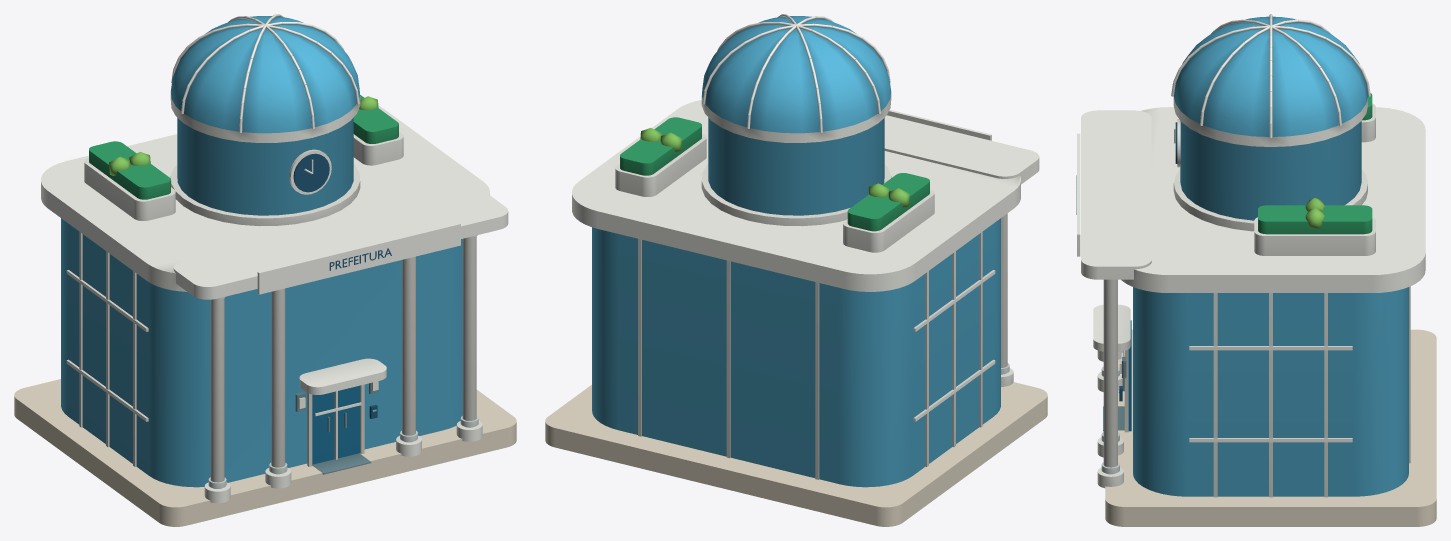
Rendered from civic.glb.
The picture shows the model from 3 angles, left to right: view 1: azimuth 30°, elevation 25°; view 2: azimuth 150°, elevation 25°; view 3: azimuth 270°, elevation 25°; orthographic projection. The views are drawn at different scales.
Visible parts, largest first — view 1: civic glass hall, hall cornice, civic podium, planter foliage, recessed entrance, identity PREFEITURA, door handle, shrub tip, column collar; view 2: civic glass hall, hall cornice, civic podium, planter foliage, shrub tip; view 3: civic glass hall, hall cornice, civic podium, planter foliage, shrub tip.
Part boxes in pixels (x1,y1,x2,y2): civic glass hall: (61, 16, 462, 487); hall cornice: (41, 14, 508, 503); civic podium: (14, 379, 516, 526); planter foliage: (89, 95, 398, 199); recessed entrance: (312, 385, 359, 464); identity PREFEITURA: (293, 153, 391, 418); door handle: (295, 382, 378, 474); shrub tip: (109, 96, 378, 175); column collar: (208, 235, 478, 488); civic glass hall: (592, 16, 1000, 487); hall cornice: (572, 14, 1039, 479); civic podium: (545, 382, 1047, 526); planter foliage: (620, 117, 929, 231); shrub tip: (640, 128, 909, 207); civic glass hall: (1133, 16, 1408, 496); hall cornice: (1077, 14, 1425, 497); civic podium: (1105, 329, 1436, 526); planter foliage: (1258, 93, 1372, 234); shrub tip: (1305, 198, 1324, 228).
Size of the model in its own units: 3.8 by 4.12 by 3.26.
